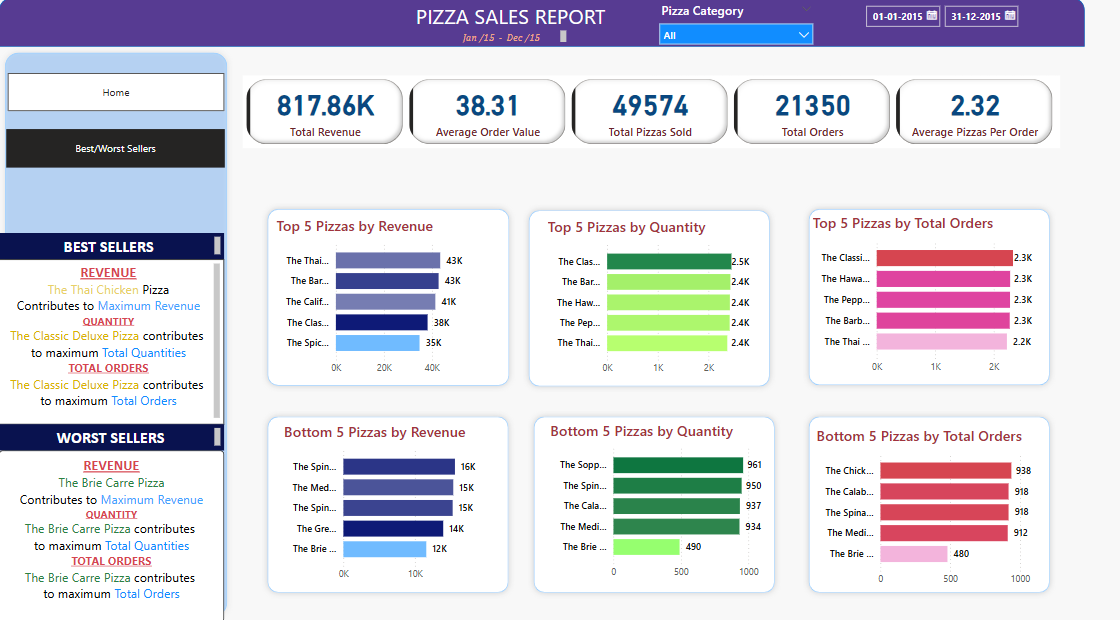

What the dashboard file says about the page in this screenshot:
{"tool":"powerbi","page":{"name":"Best/Worst Sellers","canvas":[1500,820],"ordinal":1},"visuals":[{"type":"cardVisual","fields":{"Data":["pizza_sales.Total Revenue","pizza_sales.Average Order Value","pizza_sales.Total Pizzas Sold","pizza_sales.Total Orders","pizza_sales.Average Pizzas Per Order"]},"box":[320,101.7,1071.7,95],"z":0},{"type":"shape","box":[0,0,1423.9,64.2],"z":1000},{"type":"textbox","box":[514.1,0,312.8,51.3],"z":2000},{"type":"textbox","box":[603.8,38.5,146.2,25.6],"z":3000},{"type":"shape","box":[344.8,541.8,332,247],"z":4000},{"type":"shape","box":[694,541.8,332,247],"z":5000},{"type":"shape","box":[1053.7,541.8,332,247],"z":6000},{"type":"shape","box":[0,64.2,307.5,755.2],"z":7000},{"type":"textbox","box":[0,309,295.5,34.3],"z":8000},{"type":"textbox","box":[0,343.3,295.5,216.4],"z":9000},{"type":"textbox","box":[0,559.7,295.5,34.3],"z":10000},{"type":"textbox","box":[0,594,295.5,225.4],"z":11000},{"type":"slicer","fields":{"Values":["pizza_sales.pizza_category"]},"box":[855.2,0,222.4,64.2],"z":12000},{"type":"slicer","fields":{"Values":["pizza_sales.order_date"]},"box":[1125.4,0,220.9,64.2],"z":13000},{"type":"shape","box":[344.8,268.7,332.8,247.8],"z":14000},{"type":"shape","box":[686.6,270.1,332,247],"z":15000},{"type":"shape","box":[1053.7,268.7,332,247],"z":16000},{"type":"barChart","title":"Top 5 Pizzas by Revenue","fields":{"Category":["pizza_sales.pizza_name"],"Y":["pizza_sales.Total Revenue"]},"box":[358.5,284.6,281.5,218.5],"z":17000},{"type":"barChart","title":"Top 5 Pizzas by Quantity","fields":{"Category":["pizza_sales.pizza_name"],"Y":["Sum(pizza_sales.quantity)"]},"box":[715.4,286.2,281.5,216.9],"z":18000},{"type":"barChart","title":"Top 5 Pizzas by Total Orders","fields":{"Category":["pizza_sales.pizza_name"],"Y":["pizza_sales.Total Orders"]},"box":[1063.1,281.5,304.6,220],"z":19000},{"type":"barChart","title":"Bottom 5 Pizzas by Revenue","fields":{"Category":["pizza_sales.pizza_name"],"Y":["pizza_sales.Total Revenue"]},"box":[369.2,555.4,281.5,218.5],"z":20000},{"type":"barChart","title":"Bottom 5 Pizzas by Quantity","fields":{"Category":["pizza_sales.pizza_name"],"Y":["Sum(pizza_sales.quantity)"]},"box":[718.5,553.8,300,216.9],"z":21000},{"type":"barChart","title":"Bottom 5 Pizzas by Total Orders","fields":{"Category":["pizza_sales.pizza_name"],"Y":["pizza_sales.Total Orders"]},"box":[1067.7,560,304.6,220],"z":22000},{"type":"pageNavigator","box":[10.8,98.5,284.6,50.8],"z":22001},{"type":"pageNavigator","box":[9.2,172.3,286.2,50.8],"z":22002}]}

Visuals, with their boxes in screenshot pixels (x1, y1, x2, y2), scaled from the page's 1500x820 canvas onto the 1120x620 screenshot:
cardVisual - pizza_sales.Total Revenue x pizza_sales.Average Order Value: {"x1": 239, "y1": 77, "x2": 1039, "y2": 149}
shape: {"x1": 0, "y1": 0, "x2": 1063, "y2": 49}
textbox: {"x1": 384, "y1": 0, "x2": 617, "y2": 39}
textbox: {"x1": 451, "y1": 29, "x2": 560, "y2": 48}
shape: {"x1": 257, "y1": 410, "x2": 505, "y2": 596}
shape: {"x1": 518, "y1": 410, "x2": 766, "y2": 596}
shape: {"x1": 787, "y1": 410, "x2": 1035, "y2": 596}
shape: {"x1": 0, "y1": 49, "x2": 230, "y2": 619}
textbox: {"x1": 0, "y1": 234, "x2": 221, "y2": 260}
textbox: {"x1": 0, "y1": 260, "x2": 221, "y2": 423}
textbox: {"x1": 0, "y1": 423, "x2": 221, "y2": 449}
textbox: {"x1": 0, "y1": 449, "x2": 221, "y2": 619}
slicer - pizza_sales.pizza_category: {"x1": 639, "y1": 0, "x2": 805, "y2": 49}
slicer - pizza_sales.order_date: {"x1": 840, "y1": 0, "x2": 1005, "y2": 49}
shape: {"x1": 257, "y1": 203, "x2": 506, "y2": 391}
shape: {"x1": 513, "y1": 204, "x2": 761, "y2": 391}
shape: {"x1": 787, "y1": 203, "x2": 1035, "y2": 390}
"Top 5 Pizzas by Revenue" barChart: {"x1": 268, "y1": 215, "x2": 478, "y2": 380}
"Top 5 Pizzas by Quantity" barChart: {"x1": 534, "y1": 216, "x2": 744, "y2": 380}
"Top 5 Pizzas by Total Orders" barChart: {"x1": 794, "y1": 213, "x2": 1021, "y2": 379}
"Bottom 5 Pizzas by Revenue" barChart: {"x1": 276, "y1": 420, "x2": 486, "y2": 585}
"Bottom 5 Pizzas by Quantity" barChart: {"x1": 536, "y1": 419, "x2": 760, "y2": 583}
"Bottom 5 Pizzas by Total Orders" barChart: {"x1": 797, "y1": 423, "x2": 1025, "y2": 590}
pageNavigator: {"x1": 8, "y1": 74, "x2": 221, "y2": 113}
pageNavigator: {"x1": 7, "y1": 130, "x2": 221, "y2": 169}
